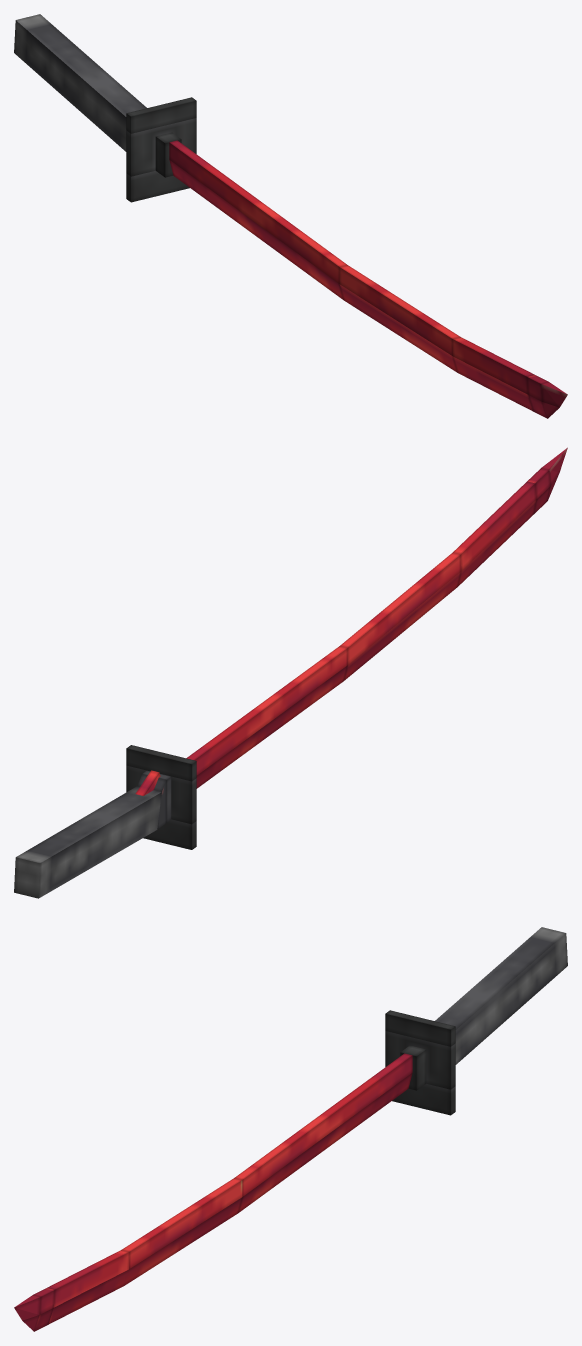
The model's file is murasama.obj.
3 views of the same model, one above another, from view 1: azimuth 30°, elevation 25°; view 2: azimuth 150°, elevation 25°; view 3: azimuth 330°, elevation 25° (orthographic).
Parts seen in each view (by area): view 1: 171; view 2: 171; view 3: 171.
Boxes of the visible parts, x1,y1,x2,y2 form: 171: (14, 14, 567, 418); 171: (14, 447, 567, 898); 171: (14, 927, 567, 1331).
Bounding box in the file's own units: 0.25 × 0.3483 × 3.58.
